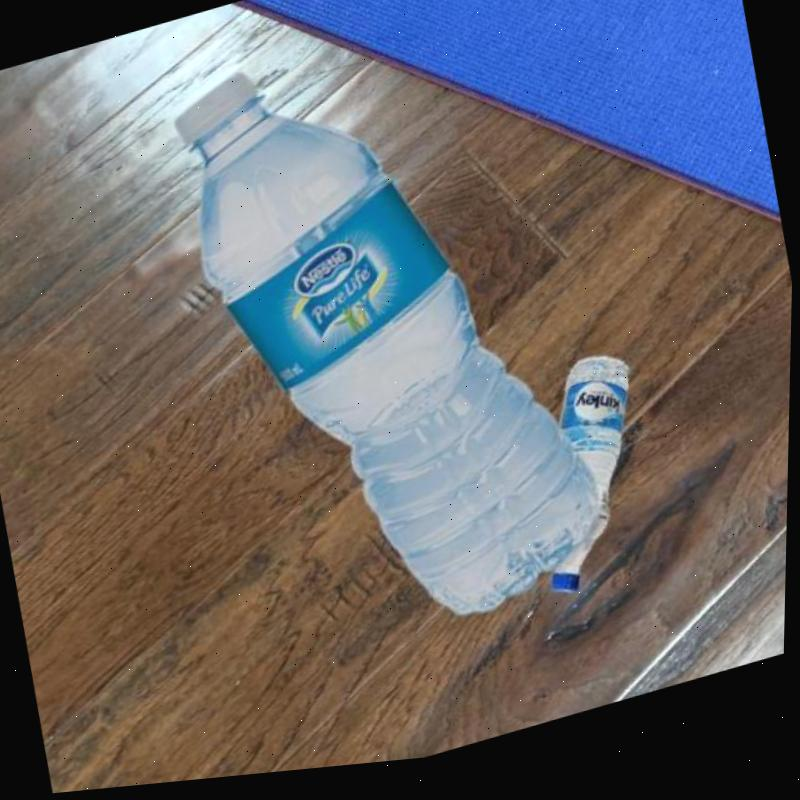botella: (159, 0, 628, 692), (511, 354, 669, 612)
